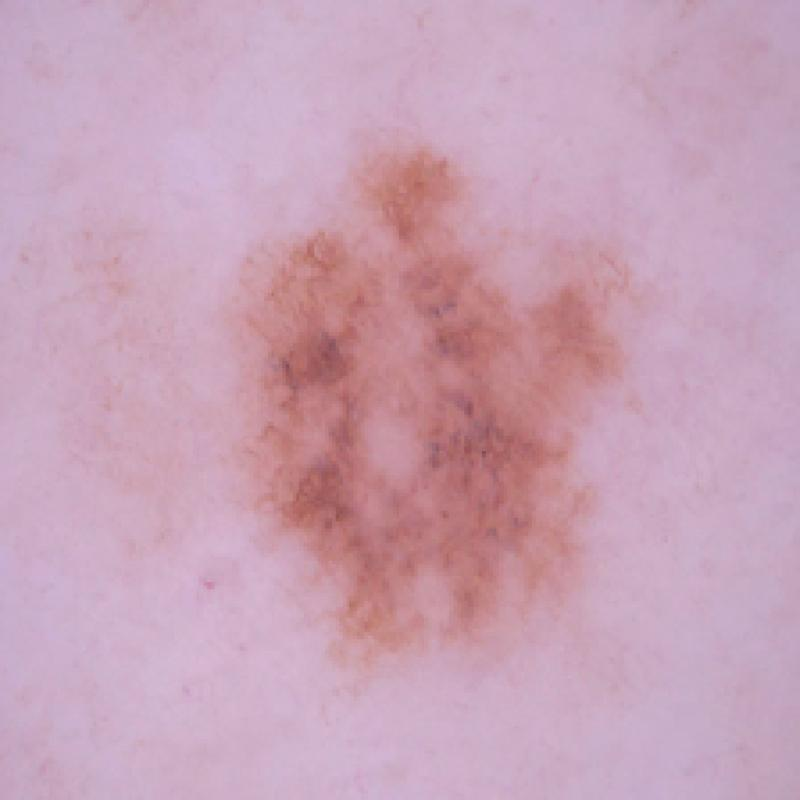benign: (159, 148, 642, 680)
